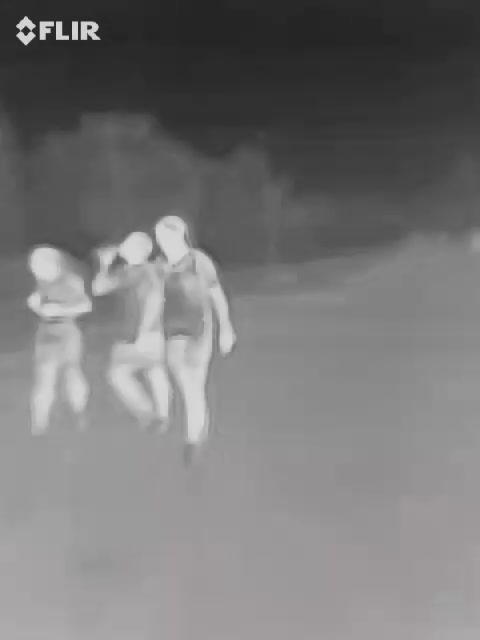head: (152, 219, 197, 262)
